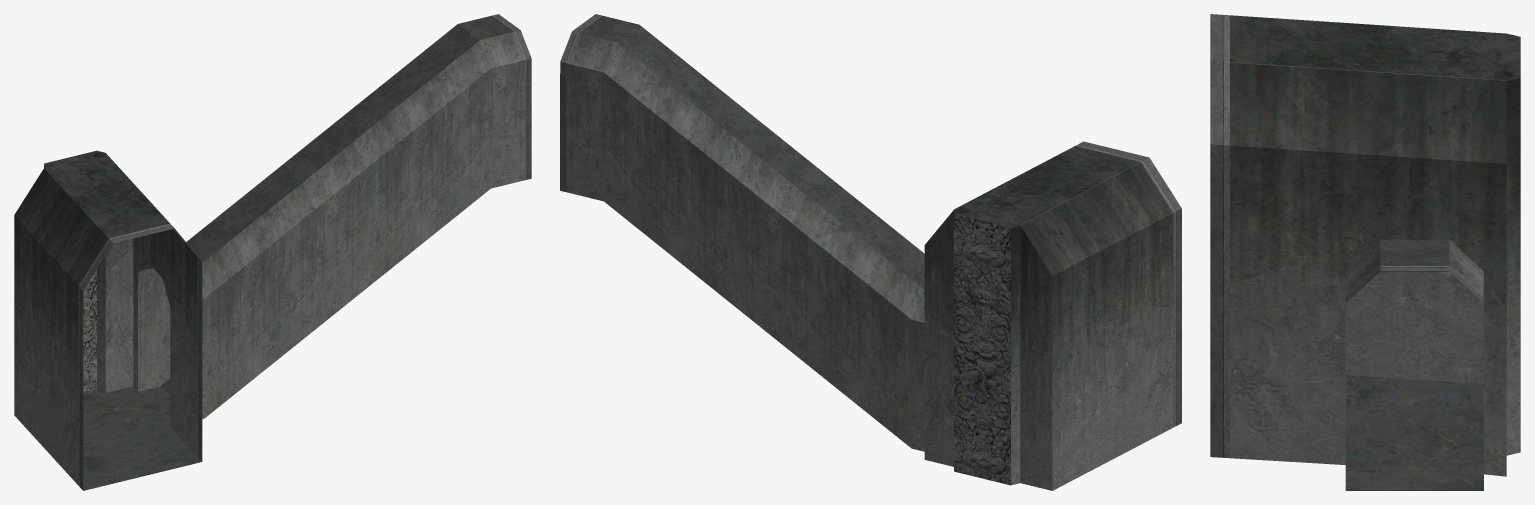
Rendered from thm_yavn_jedi_enclave_dark_r21_hallwayb4_mesh.fbx.
3 views of the same model, side by side, from view 1: azimuth 30°, elevation 25°; view 2: azimuth 150°, elevation 25°; view 3: azimuth 270°, elevation 25° (orthographic). The views are drawn at different scales.
Parts seen in each view (by area): view 1: mesh_node; view 2: mesh_node; view 3: mesh_node.
Part boxes in pixels (x1,y1,x2,y2): mesh_node: [14, 14, 531, 490]; mesh_node: [560, 14, 1181, 490]; mesh_node: [1210, 14, 1520, 490].
Bounding box in the file's own units: 12.86 × 7.52 × 4.49.
